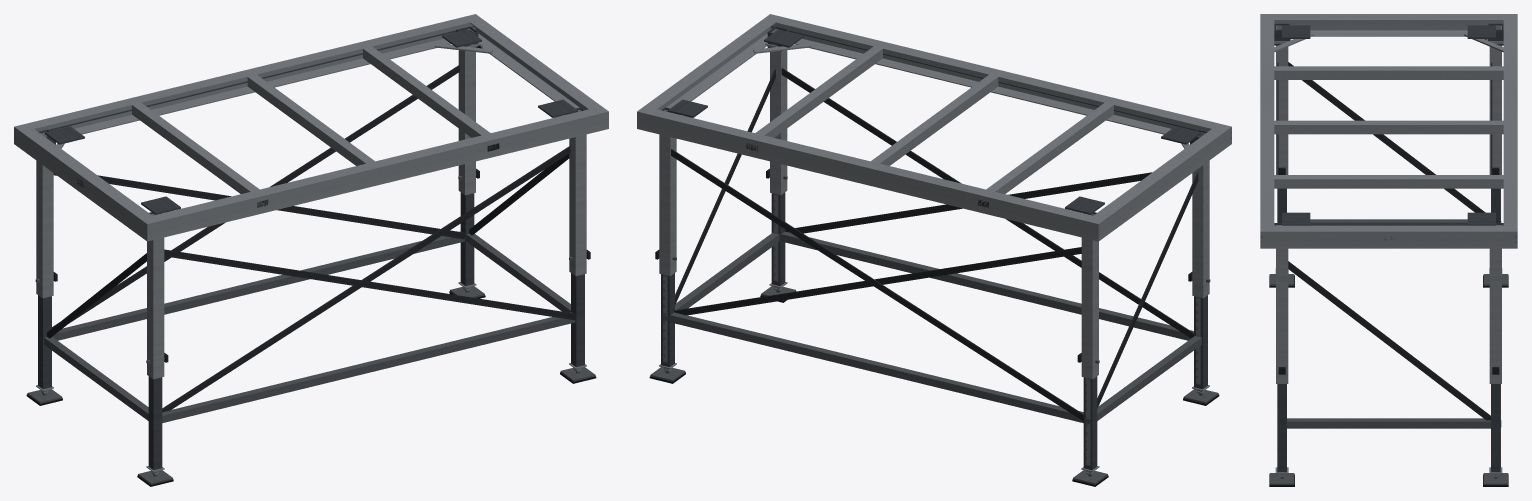
Rendered from stage_support_structures_2x1_h111.obj.
The picture shows the model from 3 angles, left to right: view 1: azimuth 30°, elevation 25°; view 2: azimuth 150°, elevation 25°; view 3: azimuth 270°, elevation 25°; orthographic projection. The views are drawn at different scales.
Visible parts, largest first — view 1: part_31, part_16, part_46, part_1, part_1003, part_997, part_991, part_907, part_10, part_63, part_919, part_913 (+28 smaller); view 2: part_0, part_46, part_16, part_30, part_912, part_918, part_900, part_984, part_40, part_63, part_996, part_1002 (+25 smaller); view 3: part_80, part_16, part_46, part_104, part_128, part_152, part_62, part_620, part_788, part_1112, part_1094, part_94 (+19 smaller).
Part boxes in pixels (x1,y1,x2,y2): part_31: [147, 111, 608, 241]; part_16: [15, 14, 481, 131]; part_46: [140, 106, 606, 223]; part_1: [35, 23, 475, 131]; part_1003: [164, 250, 575, 320]; part_997: [162, 146, 570, 412]; part_991: [162, 318, 575, 422]; part_907: [52, 237, 464, 339]; part_10: [74, 33, 481, 133]; part_63: [14, 128, 146, 239]; part_919: [53, 173, 465, 239]; part_913: [53, 65, 459, 327]; part_0: [637, 111, 1098, 241]; part_46: [763, 14, 1231, 131]; part_16: [638, 106, 1105, 223]; part_30: [770, 23, 1210, 131]; part_912: [671, 149, 1083, 421]; part_918: [674, 247, 1081, 315]; part_900: [670, 316, 1083, 422]; part_984: [781, 235, 1190, 339]; part_40: [764, 33, 1171, 133]; part_63: [1099, 128, 1231, 240]; part_996: [781, 68, 1193, 338]; part_1002: [784, 172, 1151, 233]; part_80: [1261, 231, 1516, 248]; part_16: [1503, 14, 1517, 231]; part_46: [1260, 14, 1274, 231]; part_104: [1274, 70, 1503, 79]; part_128: [1274, 125, 1503, 134]; part_152: [1274, 179, 1503, 188]; part_62: [1274, 21, 1503, 30]; part_620: [1489, 248, 1501, 383]; part_788: [1276, 248, 1288, 383]; part_1112: [1288, 262, 1490, 420]; part_1094: [1287, 421, 1490, 428]; part_94: [1274, 225, 1503, 231].
Bounding box in the file's own units: 2 × 1.11 × 1.
Materials: 2 (2 with a texture image).
